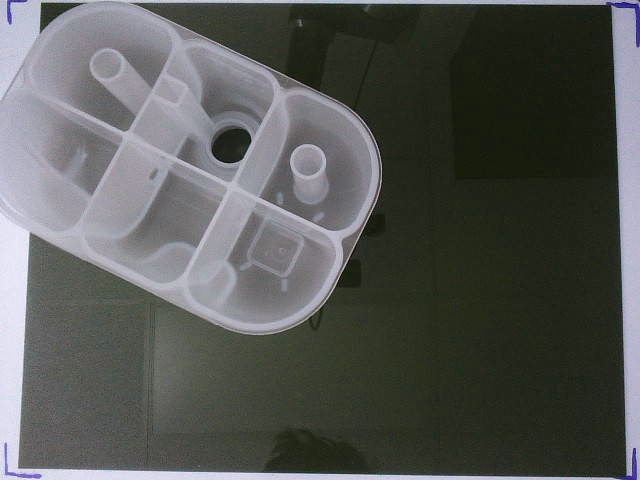reservoir_transparent_Under: (1, 1, 383, 334)
